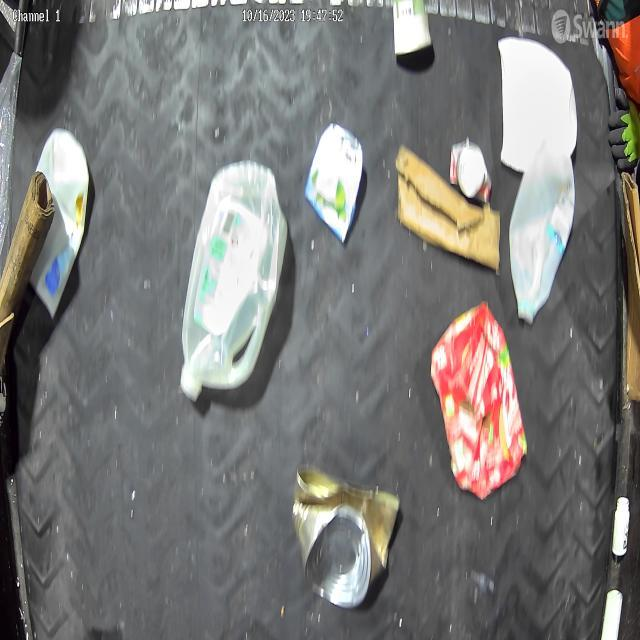can: (292, 461, 401, 608), (449, 136, 492, 206)
milk_jug: (508, 140, 576, 326)
non_white_jug: (180, 160, 288, 400)
